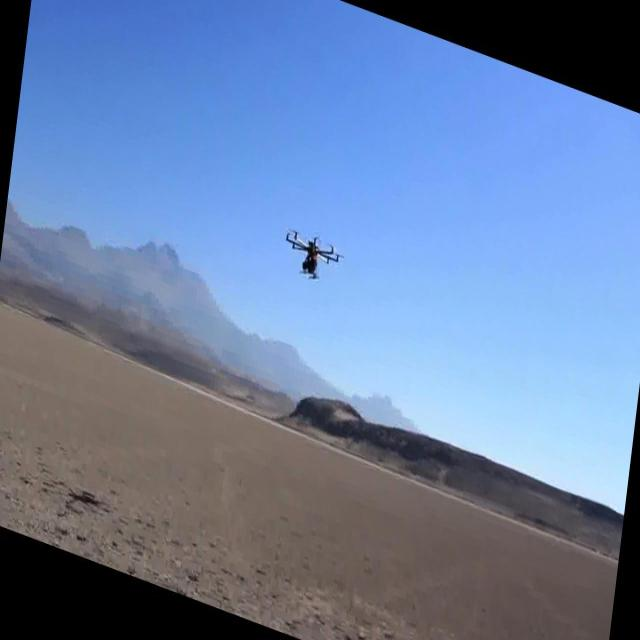drone: (279, 220, 342, 294)
